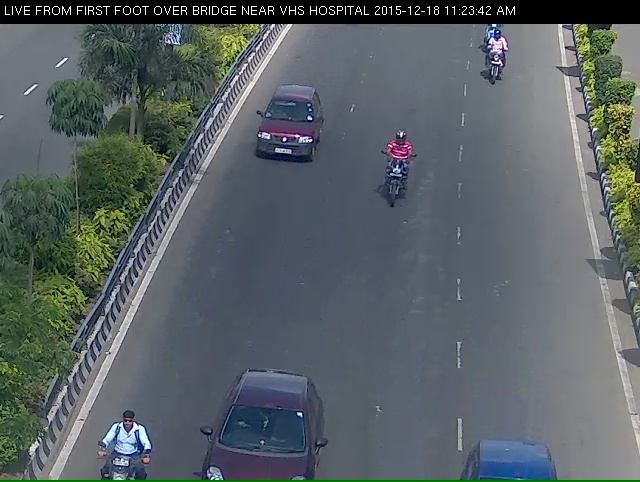Car: (242, 93, 324, 186)
Person: (372, 140, 417, 231), (482, 32, 516, 99)
